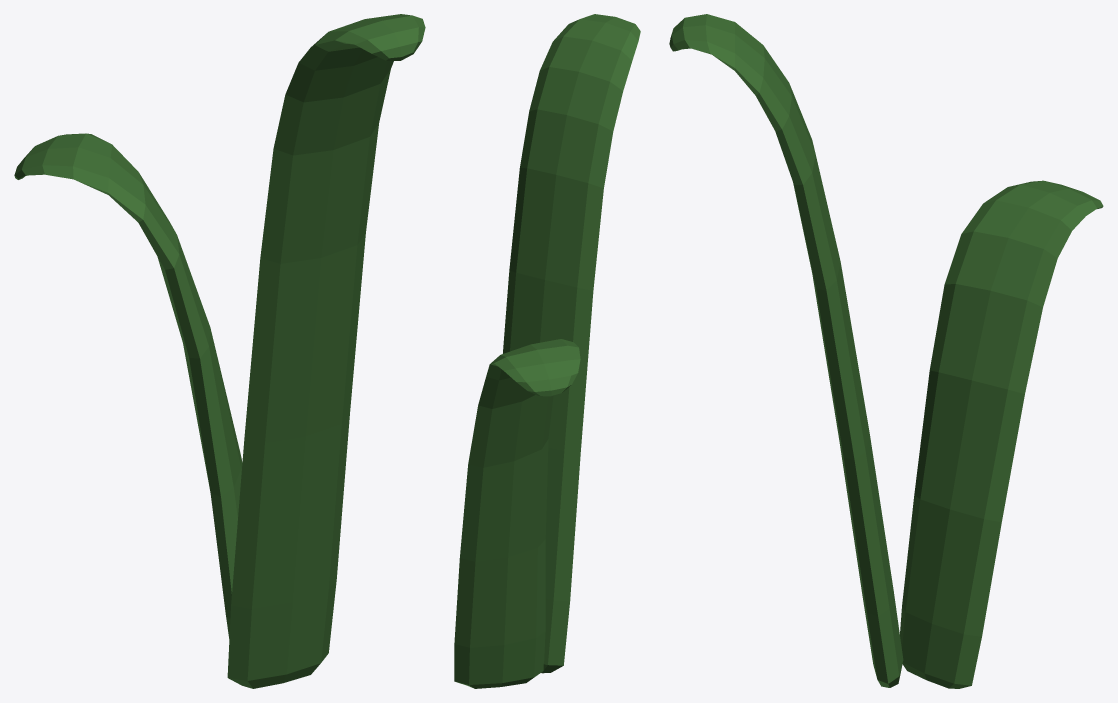
The model's file is grass1.gltf.
3 views of the same model, side by side, from view 1: azimuth 30°, elevation 25°; view 2: azimuth 150°, elevation 25°; view 3: azimuth 270°, elevation 25° (orthographic). The views are drawn at different scales.
Visible parts, largest first — view 1: Cube, Cube.001; view 2: Cube, Cube.001; view 3: Cube.001, Cube.
Part boxes in pixels (box(x1,y1,x2,y2)): Cube: box(227, 14, 425, 688); Cube.001: box(14, 133, 242, 638); Cube: box(503, 14, 640, 673); Cube.001: box(454, 339, 580, 688); Cube.001: box(900, 180, 1103, 688); Cube: box(669, 14, 903, 687).
Bounding box in the file's own units: 2.07 × 6.82 × 4.12.
